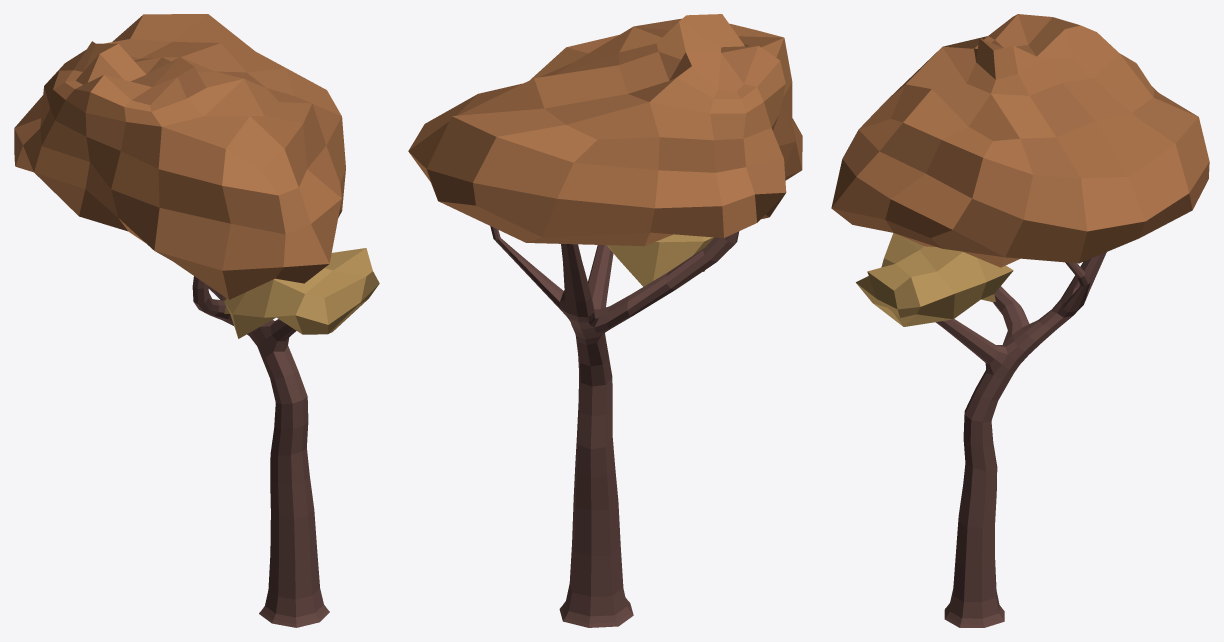
File: CommonTree_Autumn_4.gltf
3 renders of one model, left to right at view 1: azimuth 30°, elevation 25°; view 2: azimuth 150°, elevation 25°; view 3: azimuth 270°, elevation 25°, orthographic. The views are drawn at different scales.
Visible parts, largest first — view 1: CommonTree_Autumn_4; view 2: CommonTree_Autumn_4; view 3: CommonTree_Autumn_4.
Boxes of the visible parts, x1=… form: CommonTree_Autumn_4: x1=14, y1=14, x2=379, y2=627; CommonTree_Autumn_4: x1=408, y1=14, x2=802, y2=627; CommonTree_Autumn_4: x1=831, y1=14, x2=1209, y2=627.
Bounding box in the file's own units: 1.58 × 2.78 × 1.8.
